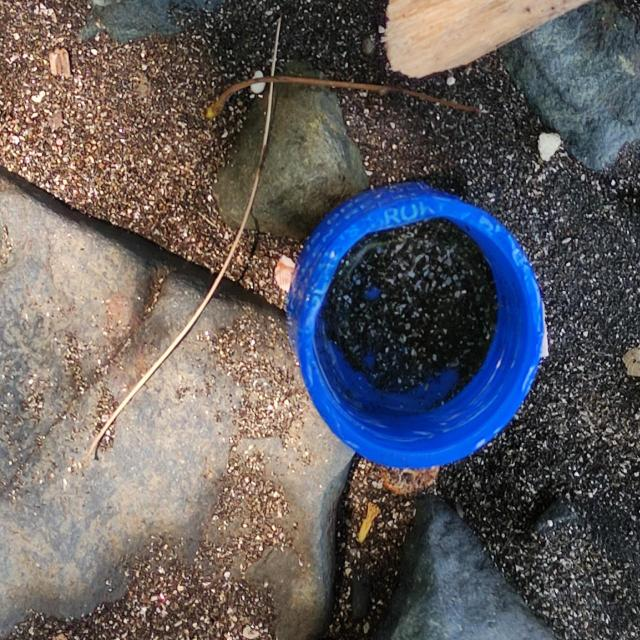plastic_waste: (286, 181, 549, 471)
